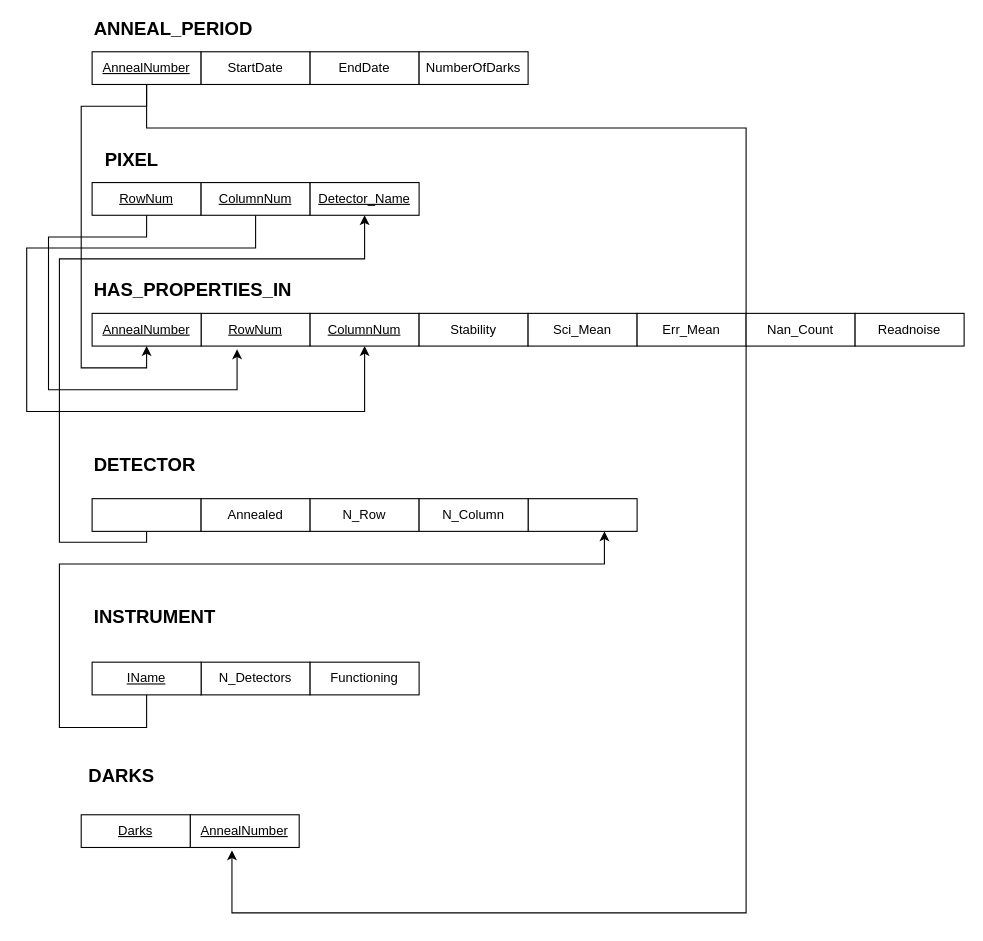
Some shapes in this 983 by 941 pixel diagram are drawn without their labels. The centre of each missing label's shape, as x and y in pixels:
"DName" goes at pixel 146 514.
"Instrument_Name" goes at pixel 582 514.
